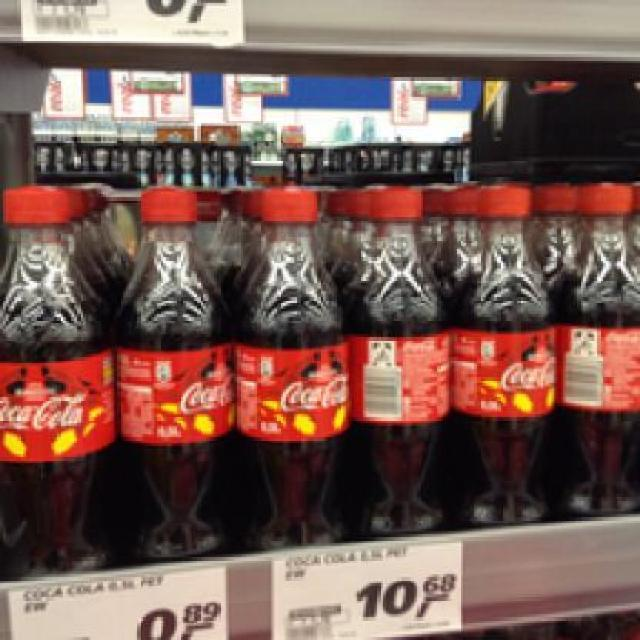Soda: (112, 185, 235, 566), (2, 182, 112, 575), (231, 186, 346, 548), (346, 188, 454, 538), (452, 183, 558, 520), (554, 180, 634, 514)
